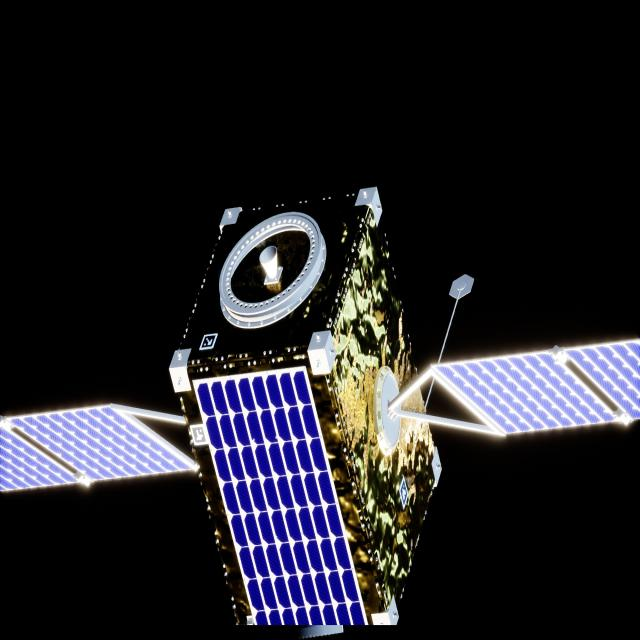medium_debris: (0, 187, 640, 630)
